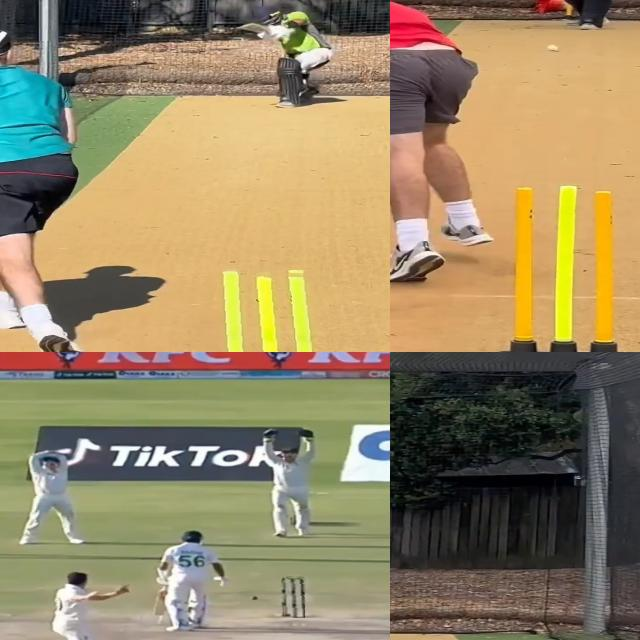Cricket ball: (547, 44, 560, 52)
Stumps: (496, 185, 632, 352), (202, 265, 328, 352), (282, 576, 306, 618)
